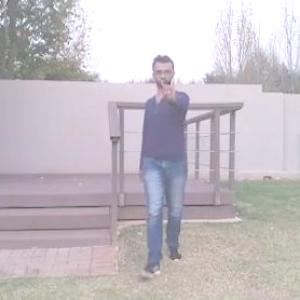takeoff-hand: (154, 68, 186, 106)
